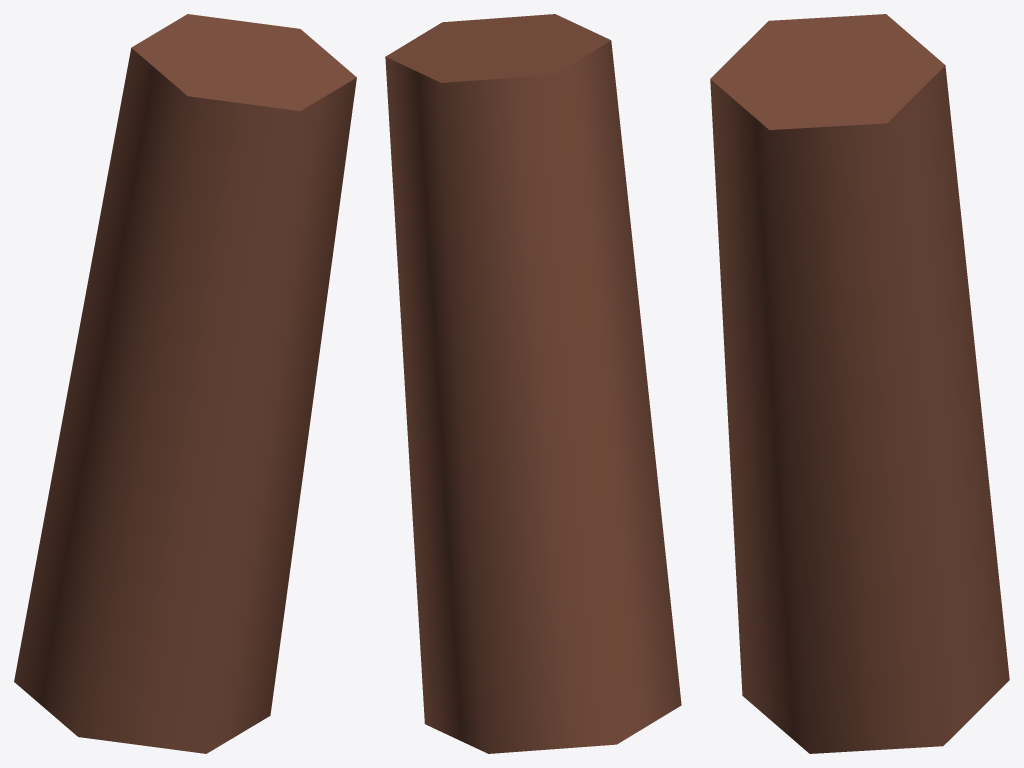
The model's file is stick.glb.
3 renders of one model, left to right at view 1: azimuth 30°, elevation 25°; view 2: azimuth 150°, elevation 25°; view 3: azimuth 270°, elevation 25°, orthographic. The views are drawn at different scales.
Parts seen in each view (by area): view 1: Stem; view 2: Stem; view 3: Stem.
Boxes of the visible parts, x1,y1,x2,y2 form: Stem: (14, 14, 356, 753); Stem: (385, 14, 681, 753); Stem: (710, 14, 1009, 753).
Size of the model in its own units: 0.1739 by 0.4253 by 0.1677.
